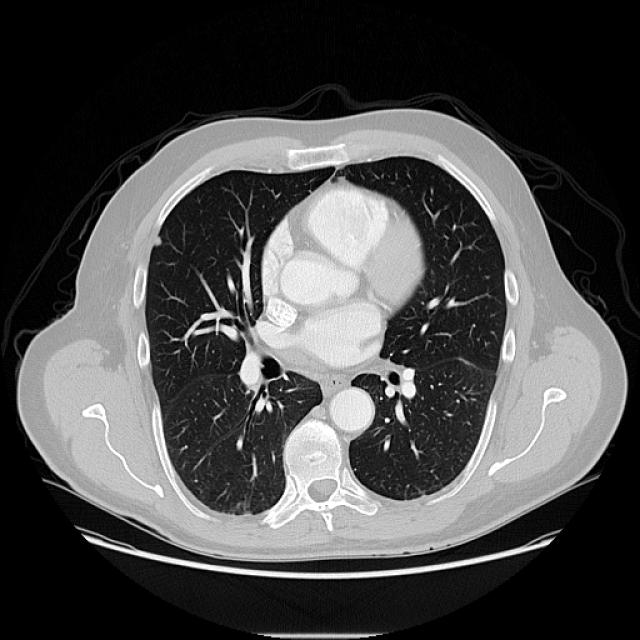nodule: (149, 232, 166, 250)
